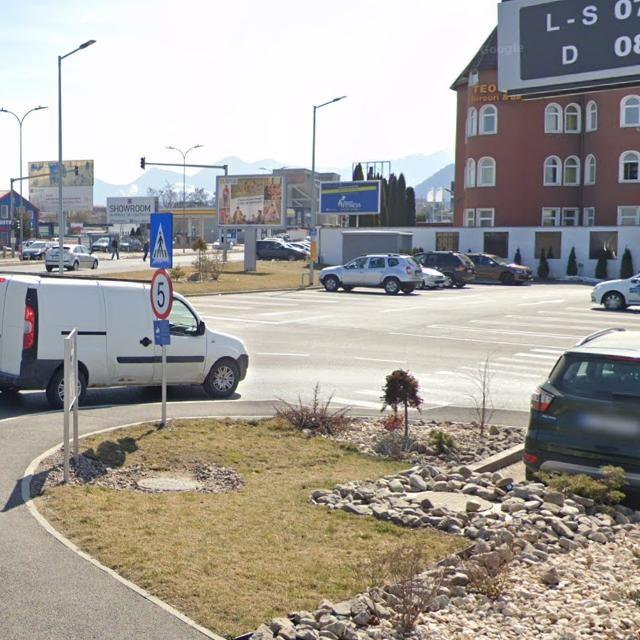info_crosswalk: (150, 214, 173, 269)
